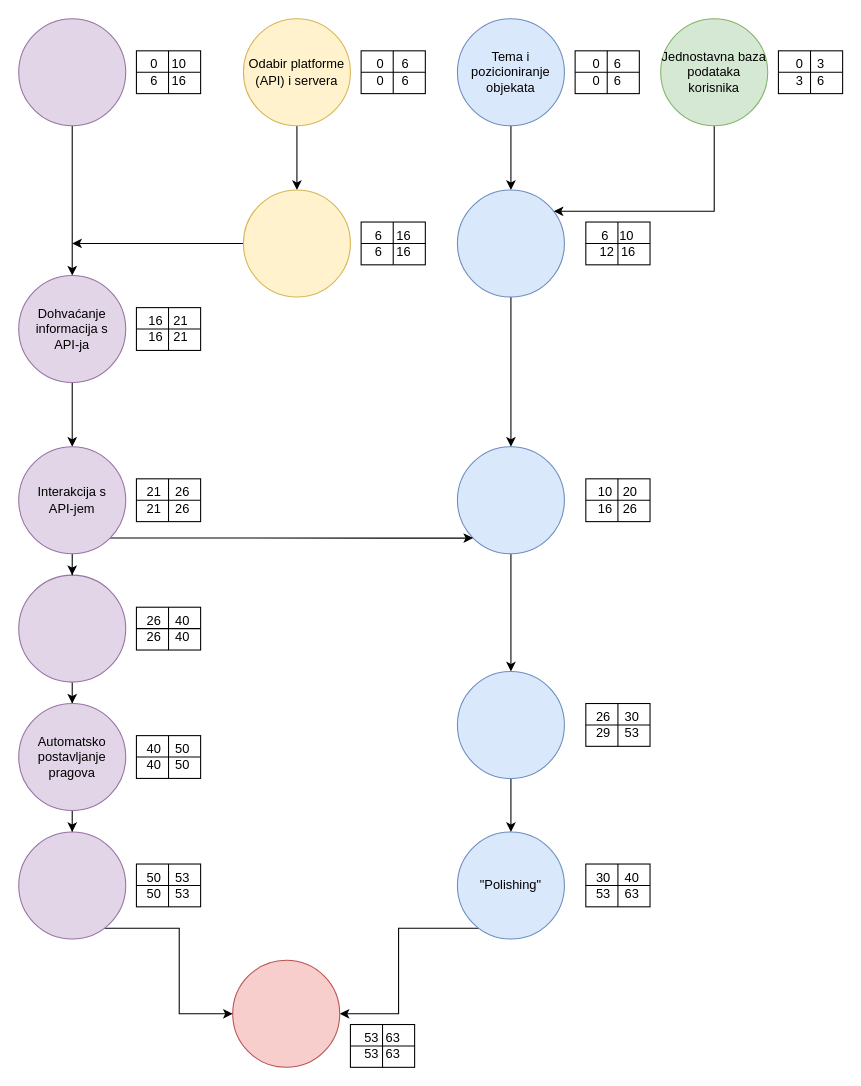
Image size: 861x1086. Some labels were removed from this diagram. The shapes that lost their labels are listed below. From the top down, each one's centre as x and y in pixels, then its label:
the point at 72,72: Proučavanje i istraživanje algoritama
the point at 296,243: Testiranje API-ja
the point at 510,243: Dizajn prijave/registracije
the point at 510,500: Povezivanje s botom
the point at 72,628: Identificiranje trendova
the point at 510,724: Prikaz vrijednosti
the point at 72,885: Opcija odabira više valuti
the point at 286,1013: Finaliziranje dokumentacije
